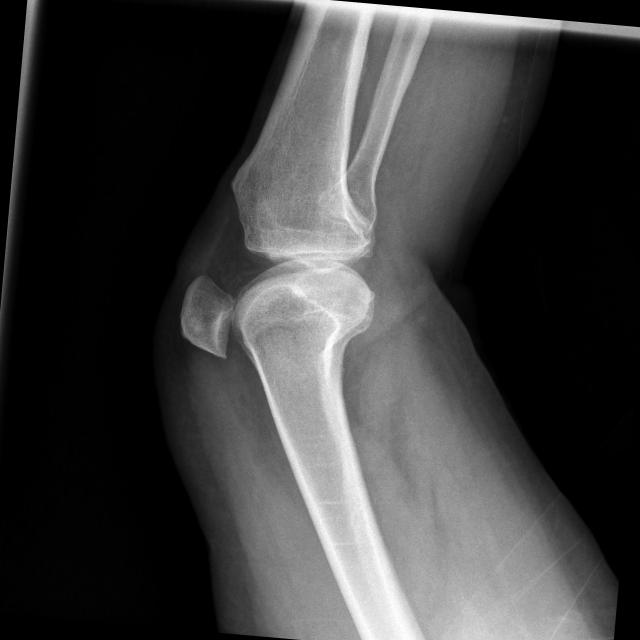Knee: (174, 174, 400, 375)
